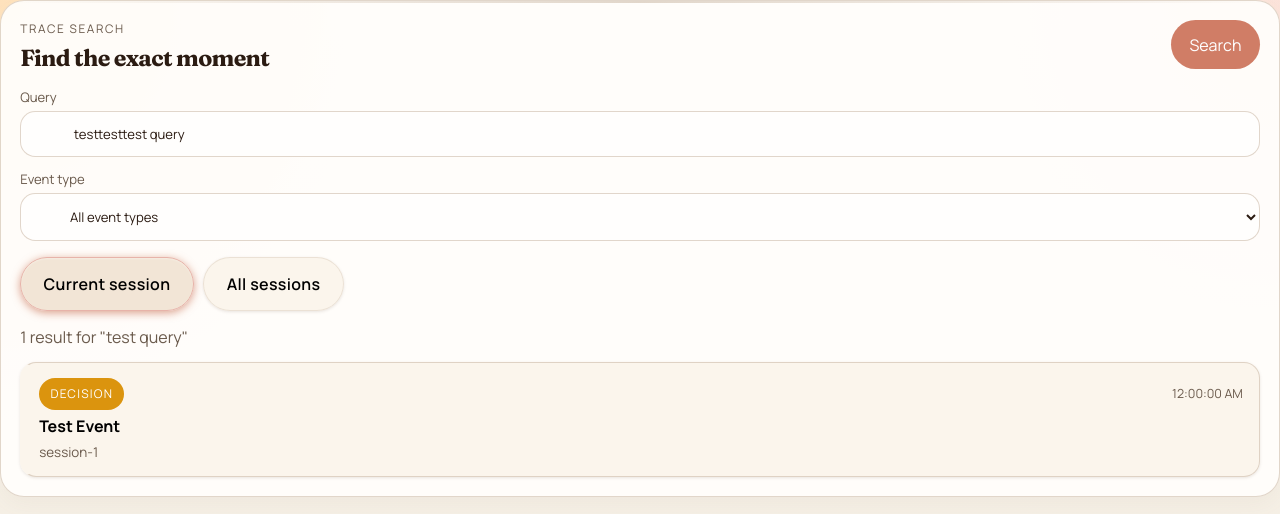
Test case: SearchPanel › handles edge case: search result with special characters in name
Type "test" into the field with placeholder "Belgrade, missing token, critic turn...". click: (640, 134)
box: [20,111,1260,157]
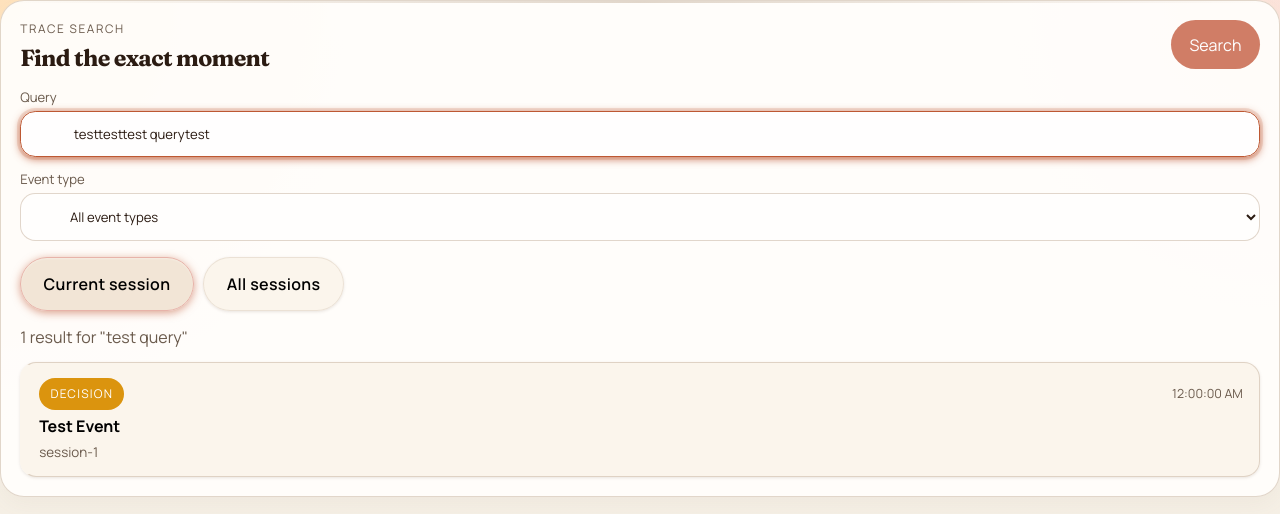
Click the button "Search". click: (1215, 45)
box: [1171,20,1260,69]
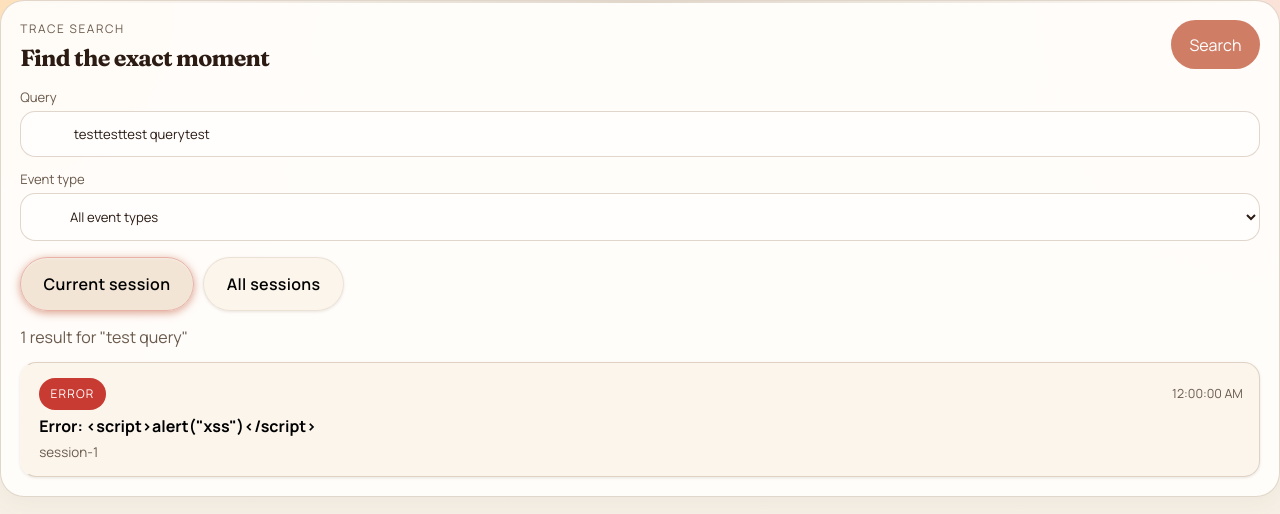
expect the text "Error: <script>alert(\"xss\")</script>" is shown: met, box [39,415,316,437]
